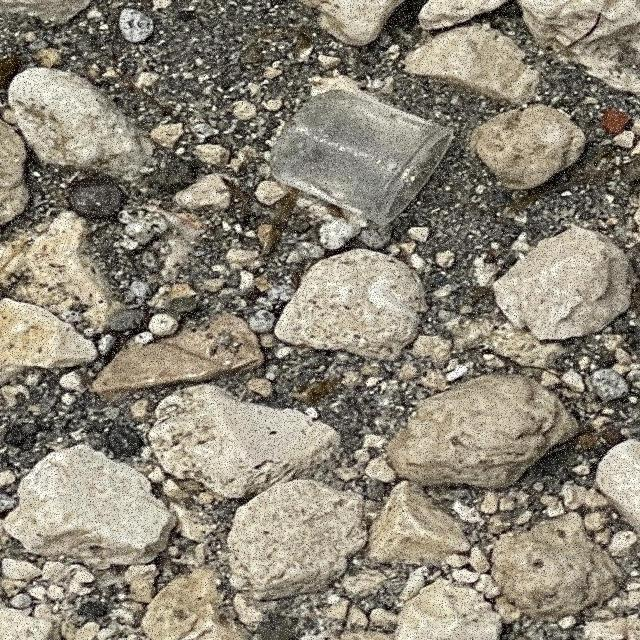plastic_waste: (270, 89, 455, 231)
